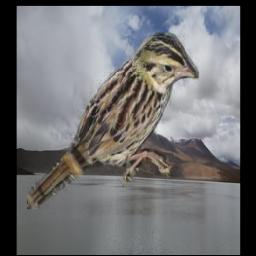Sparrow: (26, 32, 198, 210)
